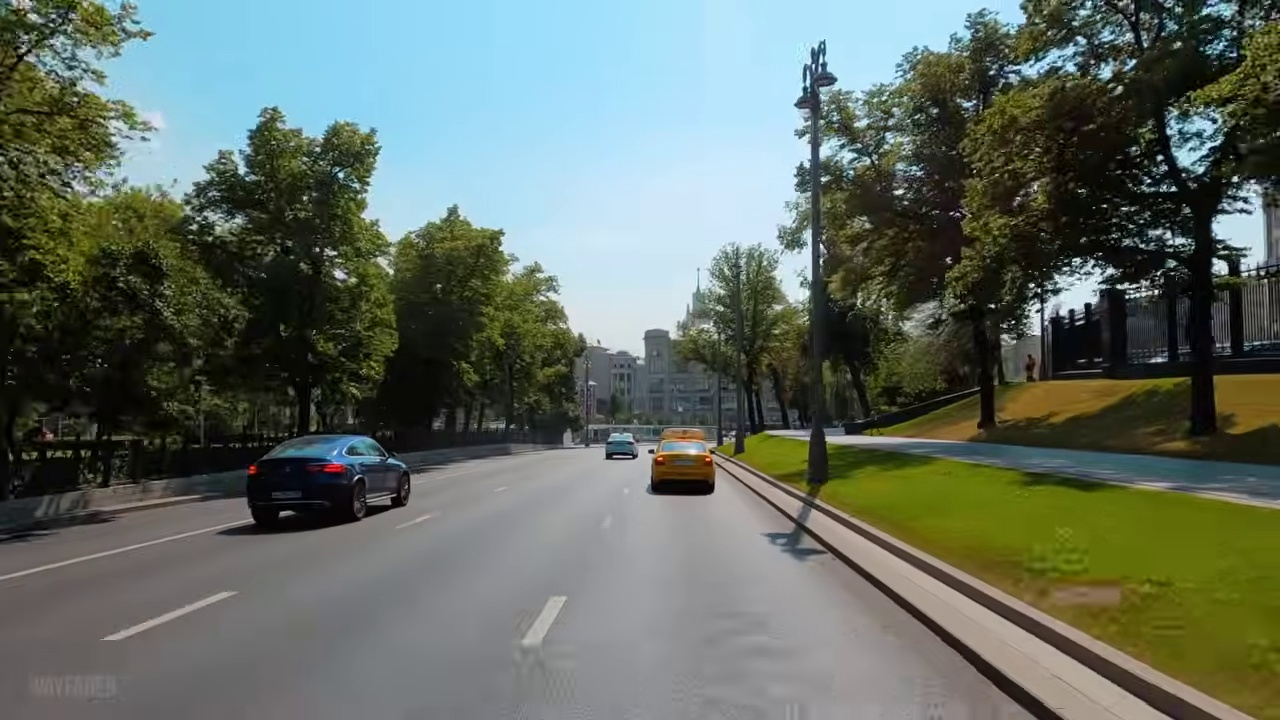apagada: (786, 46, 843, 111)
